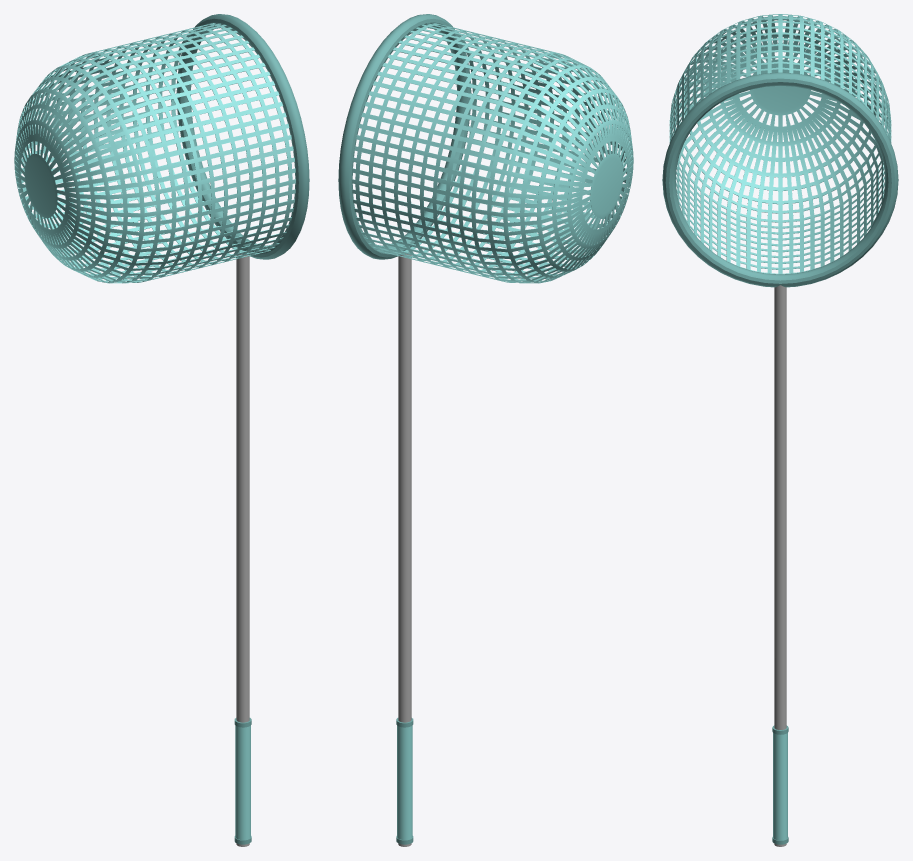
The model's file is Net.fbx.
The picture shows the model from 3 angles, left to right: view 1: azimuth 30°, elevation 25°; view 2: azimuth 150°, elevation 25°; view 3: azimuth 270°, elevation 25°; orthographic projection. The views are drawn at different scales.
Parts seen in each view (by area): view 1: Цилиндр.001, Цилиндр, ОкружностьБезье, Цилиндр.003; view 2: Цилиндр.001, Цилиндр, ОкружностьБезье, Цилиндр.003; view 3: Цилиндр.001, ОкружностьБезье, Цилиндр, Цилиндр.003.
Part boxes in pixels (x1,y1,x2,y2): Цилиндр.001: [14, 23, 295, 283]; Цилиндр: [236, 252, 249, 846]; ОкружностьБезье: [176, 14, 309, 259]; Цилиндр.003: [235, 725, 250, 839]; Цилиндр.001: [352, 23, 633, 283]; Цилиндр: [398, 252, 411, 846]; ОкружностьБезье: [338, 14, 471, 259]; Цилиндр.003: [397, 725, 412, 839]; Цилиндр.001: [669, 14, 891, 274]; ОкружностьБезье: [662, 72, 898, 287]; Цилиндр: [774, 285, 786, 846]; Цилиндр.003: [773, 733, 787, 840].
Size of the model in its own units: 73.57 by 275 by 76.3.
